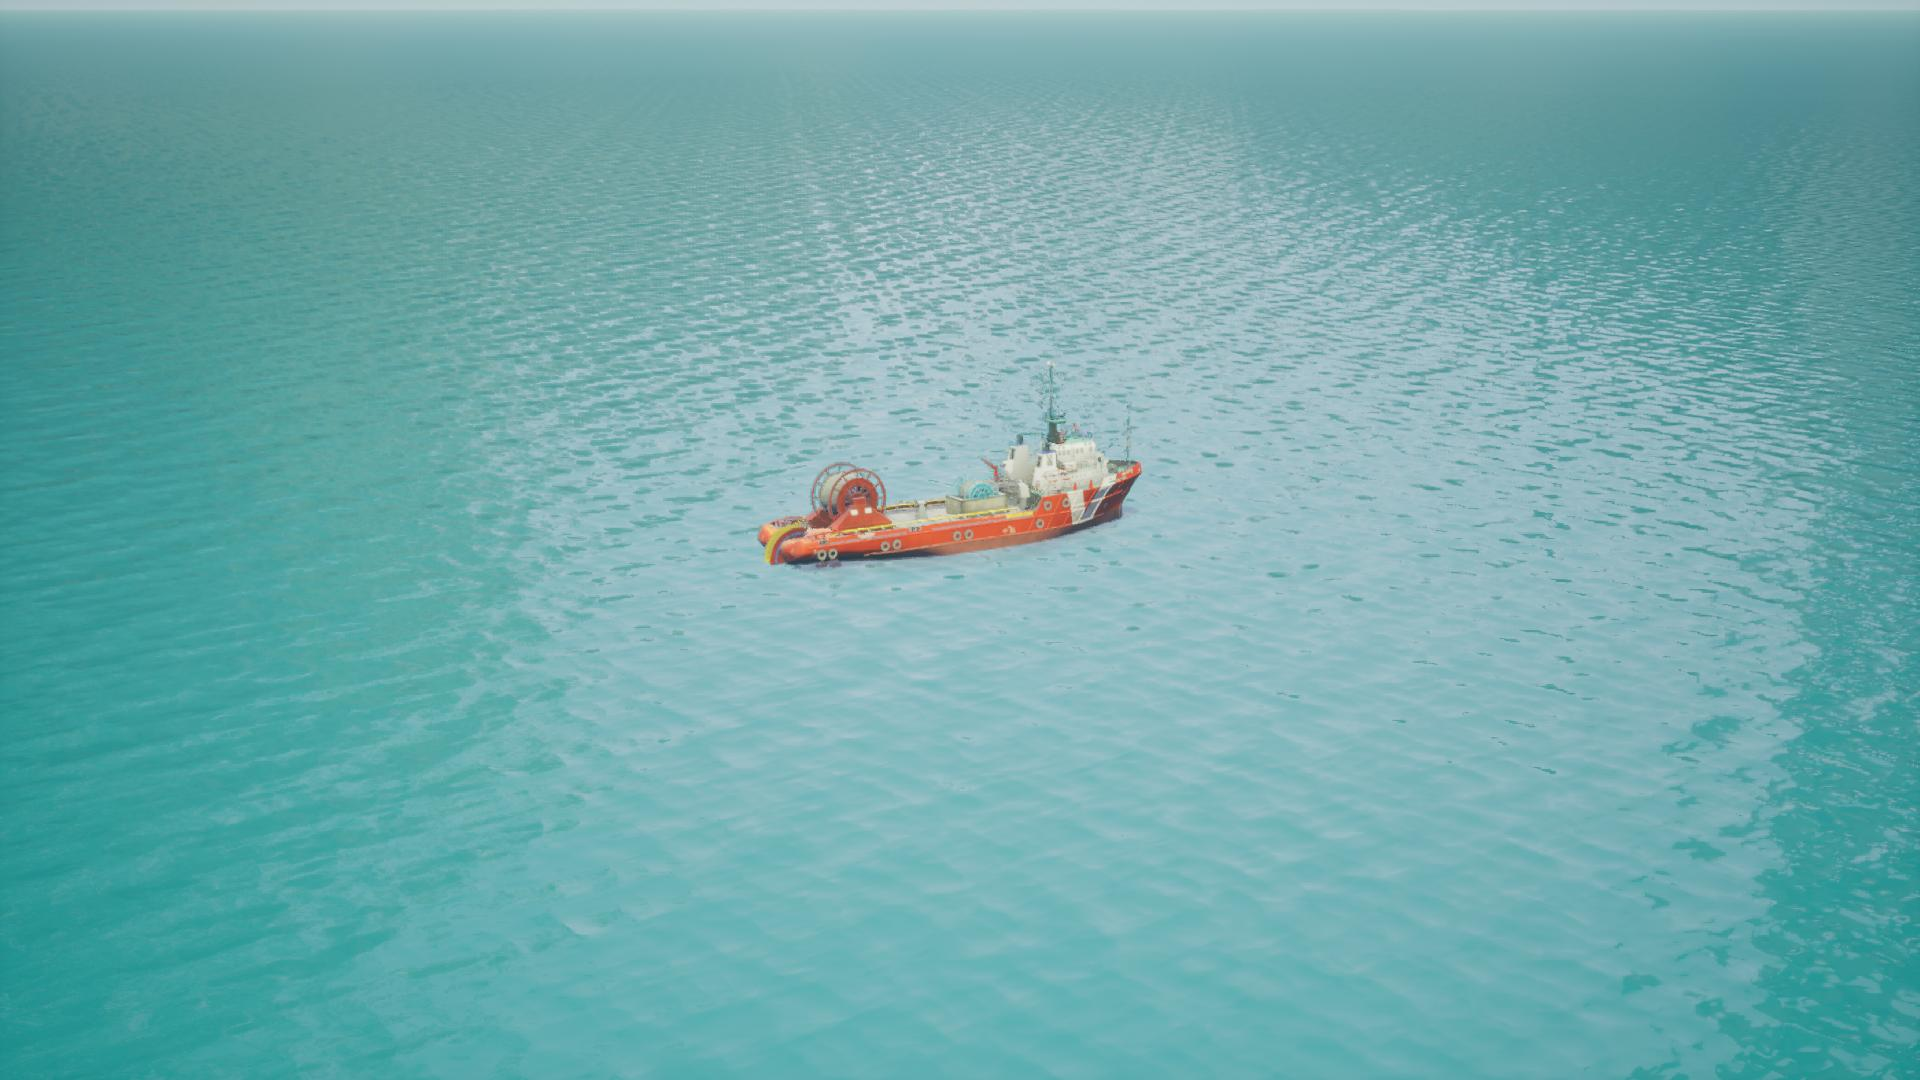Tug Boat: (762, 435, 1141, 570)
